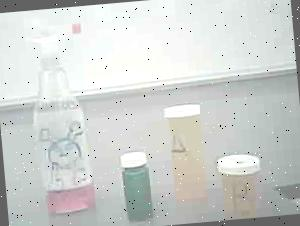Bottle A: (158, 100, 213, 214)
Bottle B: (212, 148, 266, 220)
Bottle C: (117, 147, 158, 224)
hazard: (25, 19, 102, 216)
